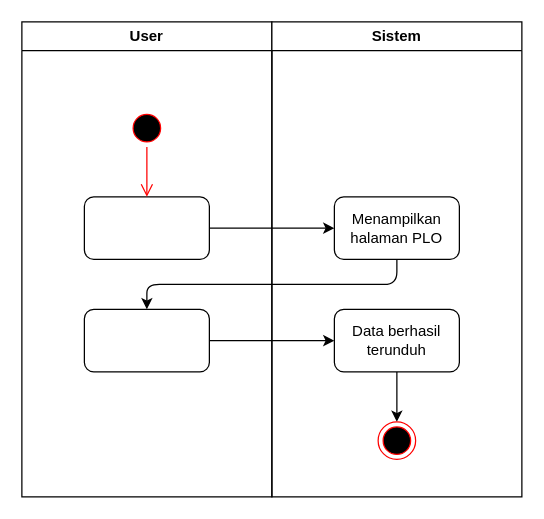
Some shapes in this 544 by 519 pixel diagram are drawn without their labels. Each missing label, with the centre of its shape:
"Pilih fitur PLO" belongs at point (146, 227).
"Pilih tombol export excel" belongs at point (146, 340).
